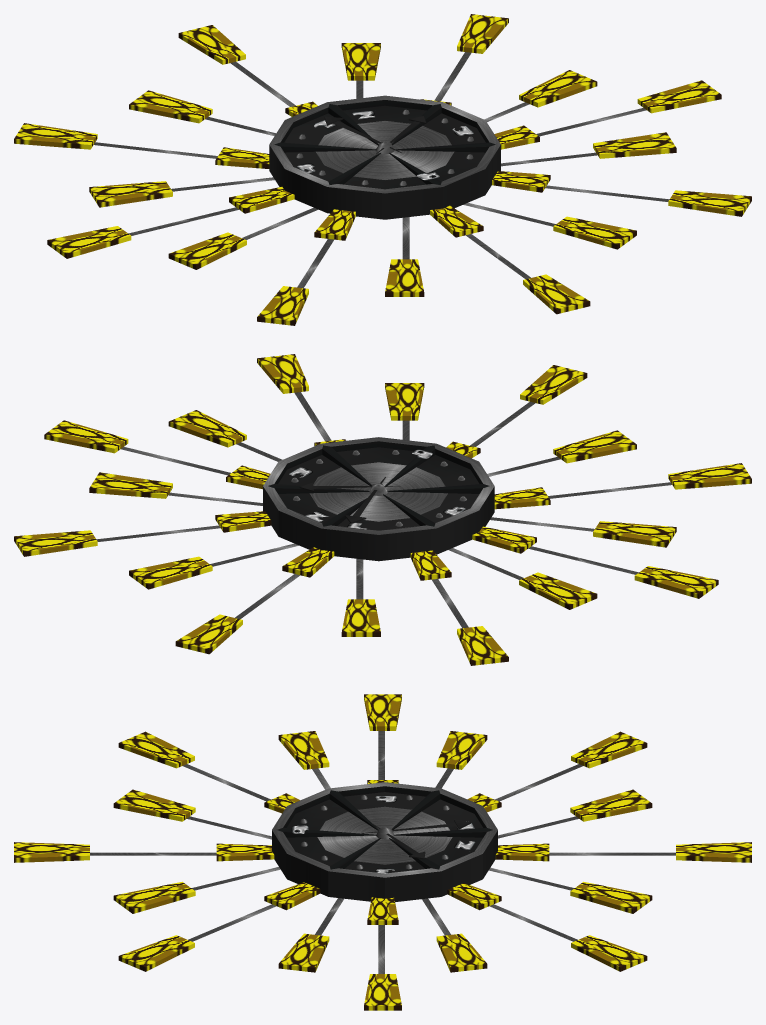
Rendered from Clock_01_D.FBX.
3 renders of one model, top to bottom at view 1: azimuth 30°, elevation 25°; view 2: azimuth 150°, elevation 25°; view 3: azimuth 270°, elevation 25°, orthographic. The views are drawn at different scales.
Visible parts, largest first — view 1: Starburst_Clock; view 2: Starburst_Clock; view 3: Starburst_Clock.
Boxes of the visible parts, x1,y1,x2,y2 form: Starburst_Clock: (14,14,751,325); Starburst_Clock: (14,354,751,665); Starburst_Clock: (14,694,751,1010).
Bounding box in the file's own units: 78.3 × 3.32 × 78.3.
